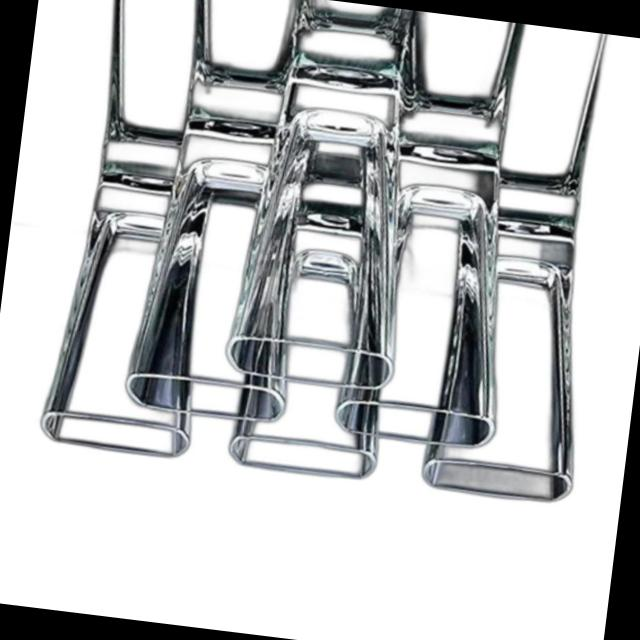glass: (392, 212, 620, 519), (219, 100, 436, 391), (338, 153, 524, 473), (124, 129, 310, 432), (32, 174, 218, 476), (218, 195, 406, 488)
